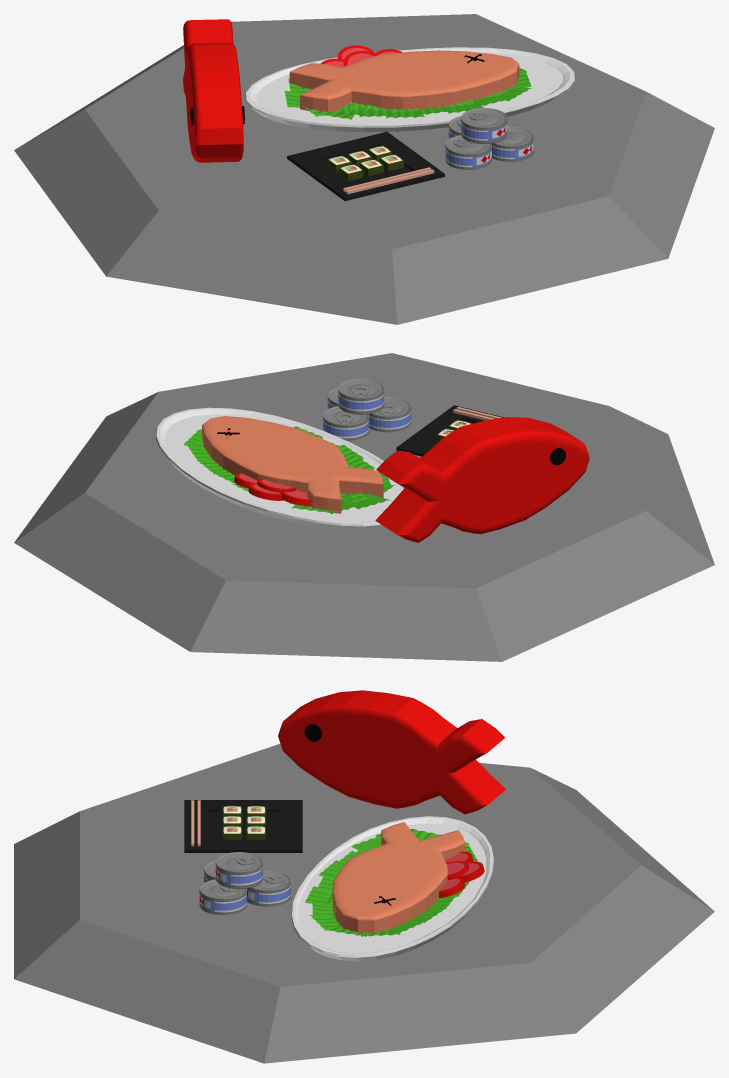
The model's file is Fish_Products1.fbx.
3 views of the same model, one above another, from view 1: azimuth 30°, elevation 25°; view 2: azimuth 150°, elevation 25°; view 3: azimuth 270°, elevation 25° (orthographic). The views are drawn at different scales.
Visible parts, largest first — view 1: Cylinder, Roasted Fish, Fish, Chopstick, Can.003; view 2: Cylinder, Roasted Fish, Fish, Can.003, Chopstick; view 3: Cylinder, Roasted Fish, Fish, Chopstick, Can.003.
Part boxes in pixels (x1=…): Cylinder: x1=14, y1=14, x2=714, y2=324; Roasted Fish: x1=245, y1=45, x2=574, y2=132; Fish: x1=183, y1=19, x2=244, y2=162; Chopstick: x1=287, y1=131, x2=444, y2=200; Can.003: x1=445, y1=108, x2=533, y2=169; Cylinder: x1=14, y1=353, x2=714, y2=661; Roasted Fish: x1=155, y1=407, x2=404, y2=530; Fish: x1=375, y1=417, x2=589, y2=542; Can.003: x1=323, y1=378, x2=411, y2=440; Chopstick: x1=396, y1=405, x2=503, y2=456; Cylinder: x1=14, y1=743, x2=714, y2=1063; Roasted Fish: x1=291, y1=816, x2=494, y2=961; Fish: x1=278, y1=690, x2=505, y2=814; Chopstick: x1=184, y1=800, x2=302, y2=852; Can.003: x1=199, y1=852, x2=290, y2=914.
Bounding box in the file's own units: 3579 × 779 × 3489.
